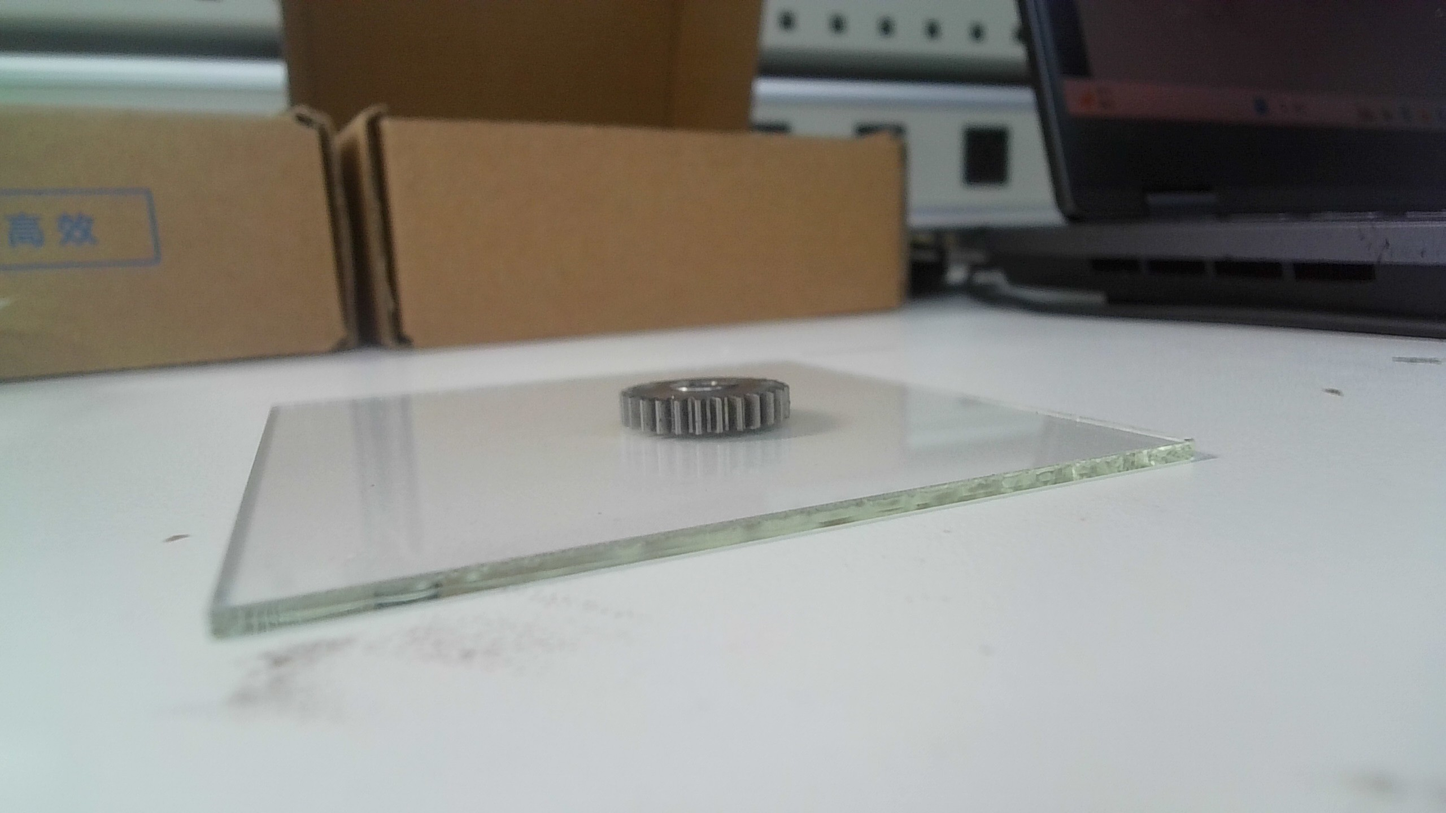gear: (616, 373, 795, 442)
